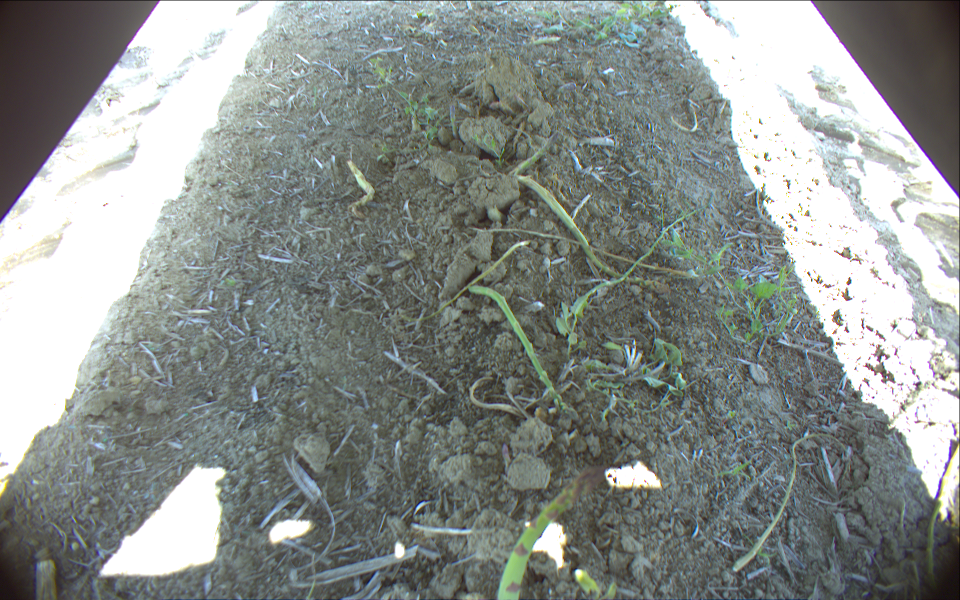aspa: (520, 174, 671, 295), (497, 464, 612, 600), (469, 284, 572, 420), (922, 445, 957, 600), (507, 133, 557, 177), (345, 159, 376, 210), (524, 36, 564, 47)
